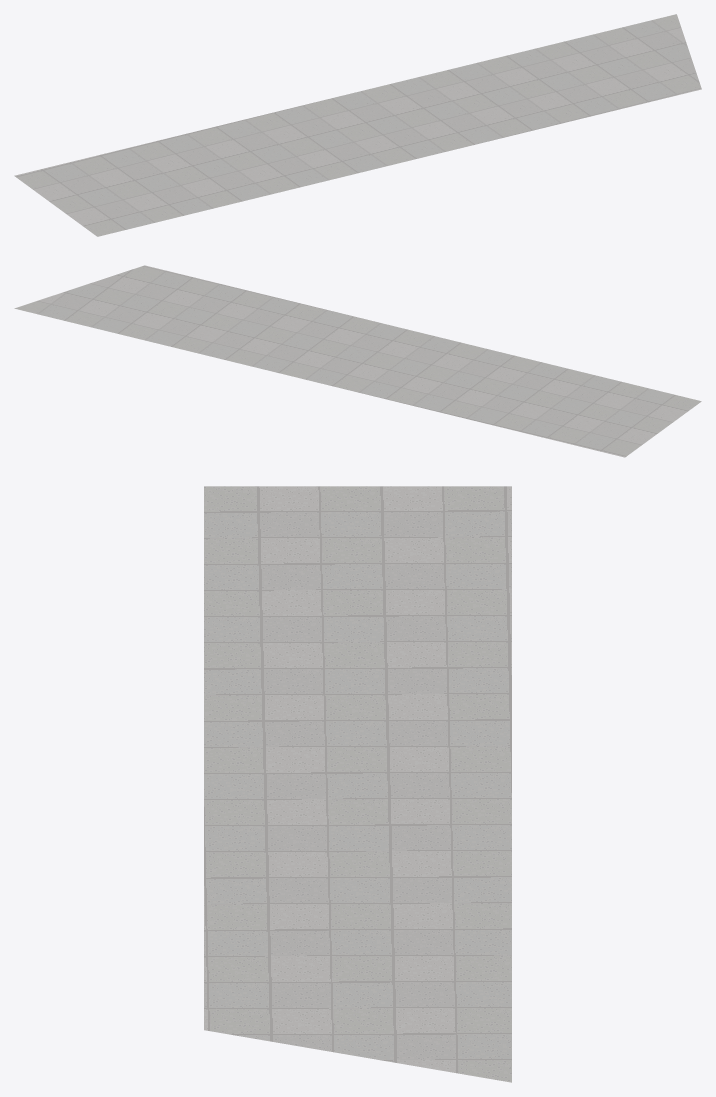
The model's file is kd_stage_136599_18_20.glb.
3 views of the same model, one above another, from view 1: azimuth 30°, elevation 25°; view 2: azimuth 150°, elevation 25°; view 3: azimuth 270°, elevation 25° (orthographic). The views are drawn at different scales.
Parts seen in each view (by area): view 1: kd_stage_136599_18_20; view 2: kd_stage_136599_18_20; view 3: kd_stage_136599_18_20.
Part boxes in pixels (bbox=[...]): kd_stage_136599_18_20: bbox=[14, 14, 701, 236]; kd_stage_136599_18_20: bbox=[14, 265, 701, 457]; kd_stage_136599_18_20: bbox=[204, 486, 511, 1082].
Bounding box in the file's own units: 4.71 × 9.54e-07 × 1.03.
Materials: 1 (1 with a texture image).
